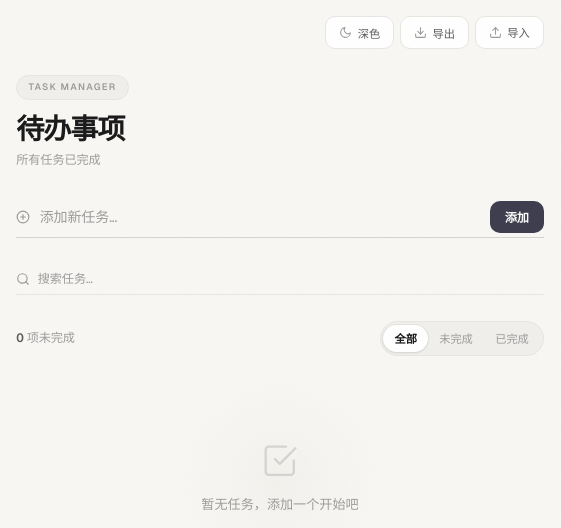
TodoApp › should clear completed todos
Type "任务1" into the field with placeholder "添加新任务..." at (260, 217), box [40,197,480,237]
Then press Enter
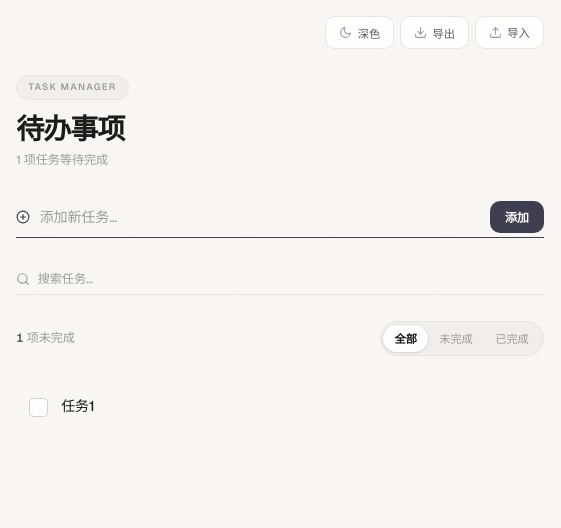
Type "任务2" into the field with placeholder "添加新任务..." at (260, 217), box [40,197,480,237]
Then press Enter
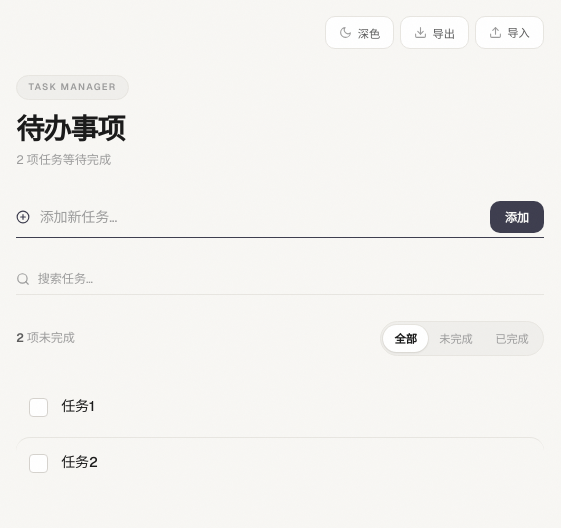
// Toggle first one
Click the checkbox next to "任务1" at (39, 407), box [29,398,48,417]
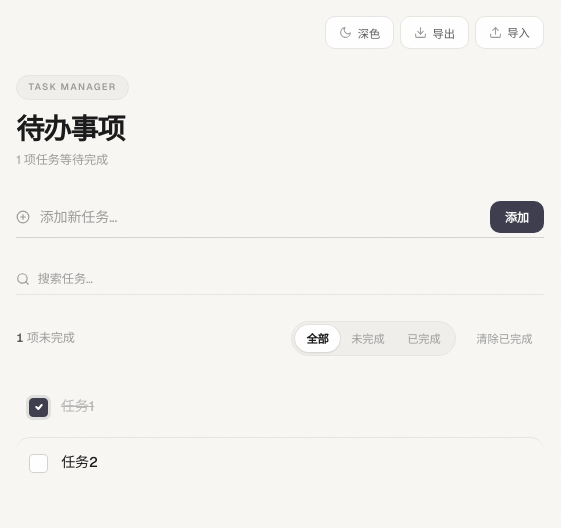
Click the button "清除已完成" at (504, 338), box [465,325,544,352]
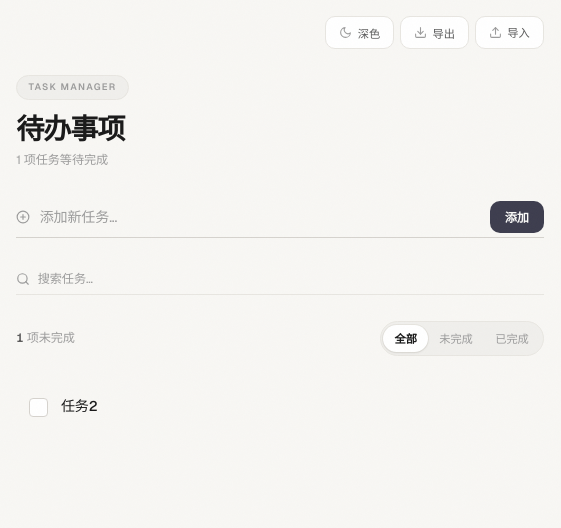
Check: the text "任务2" is shown, box [61,397,98,415]
Check: the text "任务1" is gone
